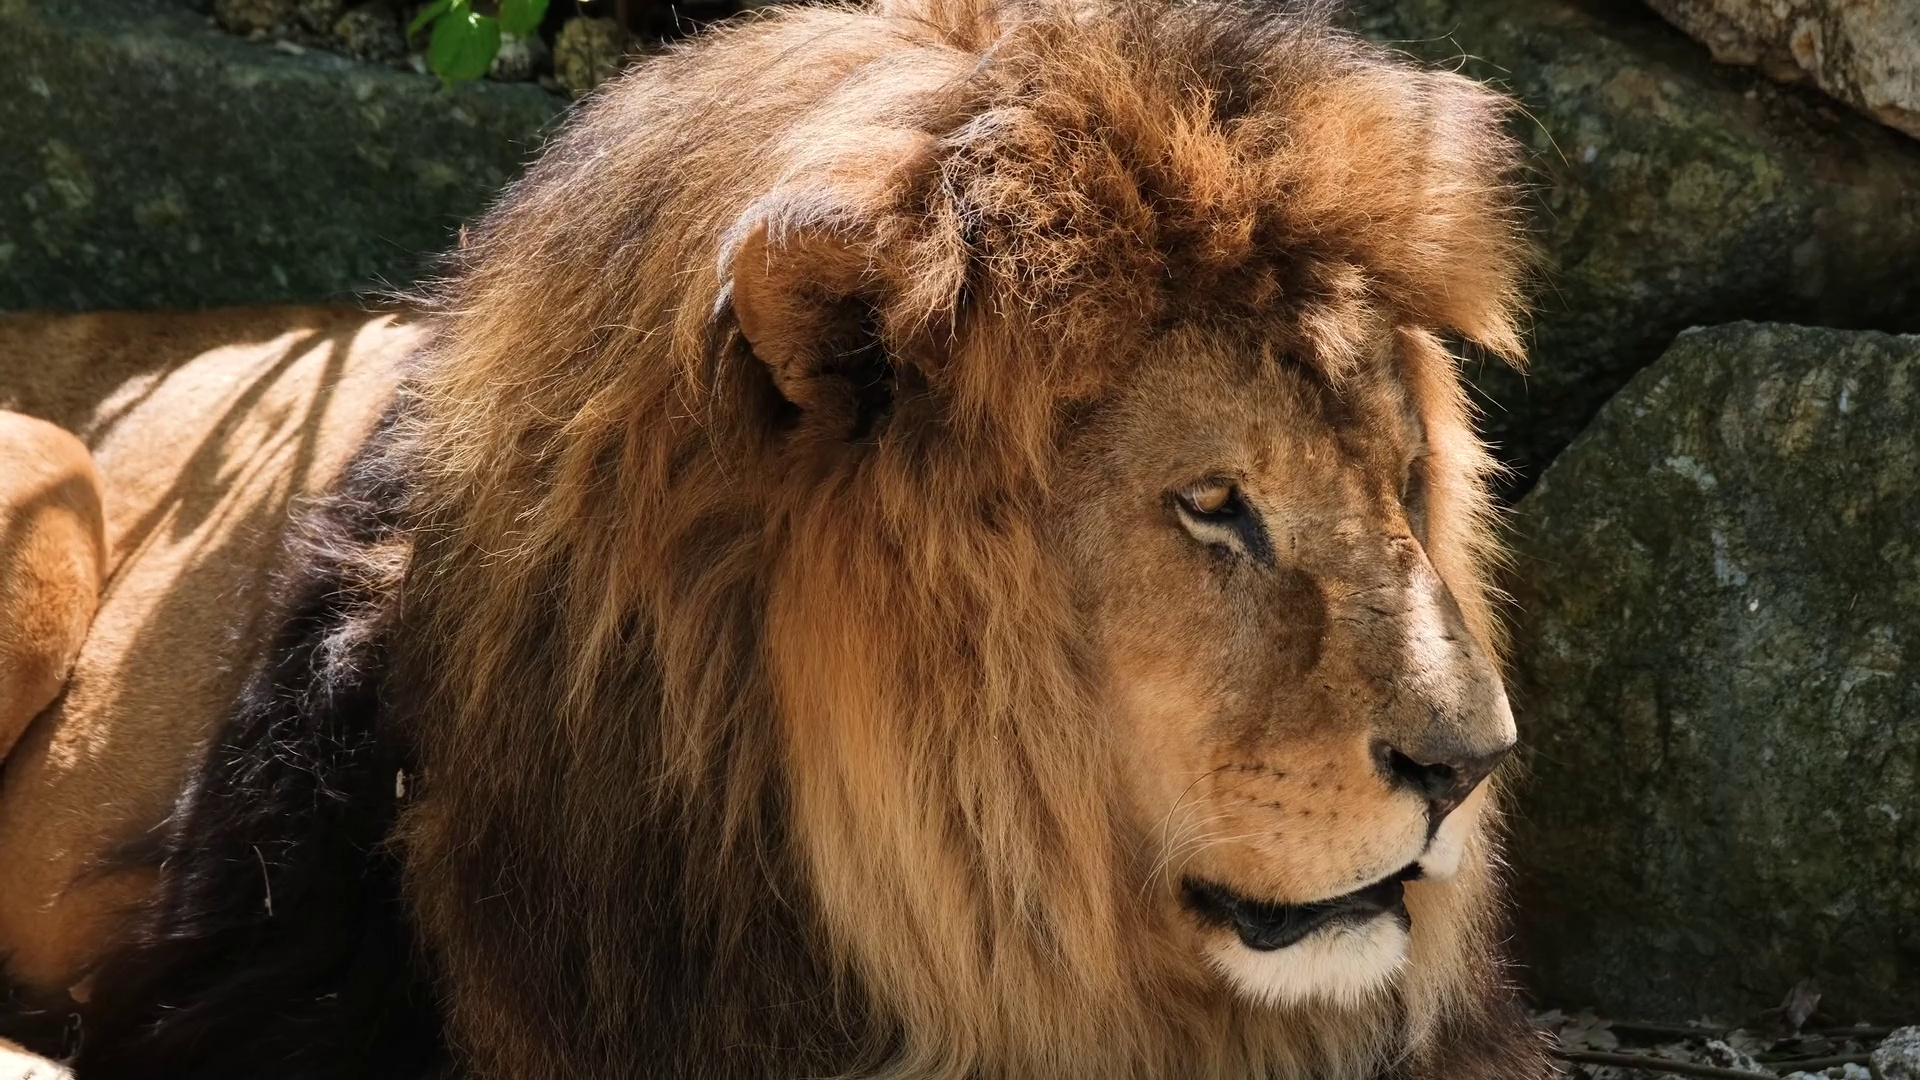Lion: (4, 1, 1542, 1080)
